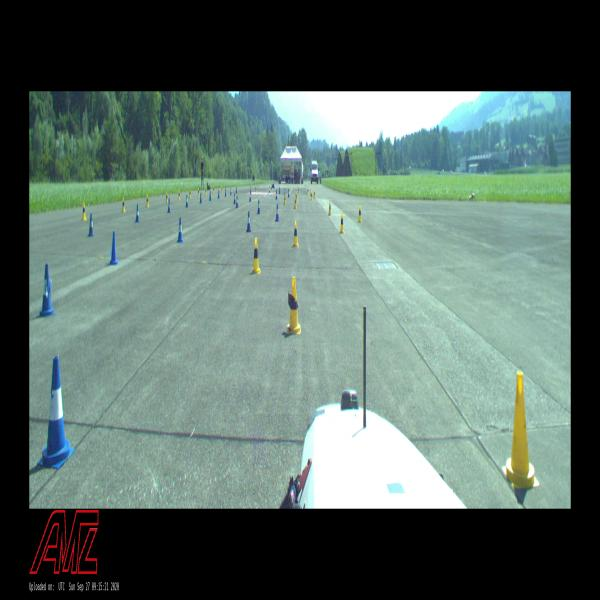blue_cone: (37, 356, 75, 468), (38, 264, 55, 318), (109, 232, 119, 264), (177, 217, 184, 242), (88, 213, 95, 236), (246, 212, 251, 231), (135, 204, 140, 222), (276, 204, 280, 221), (257, 199, 261, 214), (167, 198, 171, 213), (233, 193, 236, 204), (249, 192, 252, 202), (186, 195, 188, 208), (236, 196, 238, 207), (210, 190, 212, 201), (200, 192, 202, 203), (276, 190, 278, 200), (218, 189, 220, 198), (230, 187, 232, 195), (225, 189, 226, 196)
yellow_cone: (502, 372, 539, 487), (287, 276, 301, 334), (251, 237, 261, 274), (293, 221, 299, 247), (82, 202, 87, 221), (340, 212, 344, 233), (358, 205, 362, 222), (122, 198, 126, 212), (328, 201, 332, 215), (294, 196, 297, 209), (146, 195, 149, 207), (178, 190, 181, 200), (284, 194, 286, 204), (166, 192, 168, 202), (296, 192, 298, 202), (205, 187, 207, 195), (189, 190, 191, 198), (307, 188, 309, 195), (255, 186, 257, 192), (221, 186, 223, 192), (311, 191, 312, 200), (314, 190, 315, 198), (198, 188, 199, 196), (213, 186, 214, 193), (310, 189, 311, 196)
